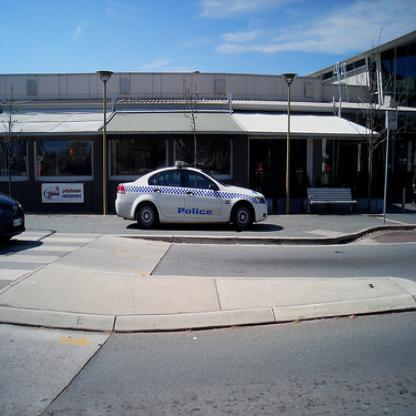car: (110, 158, 273, 237)
